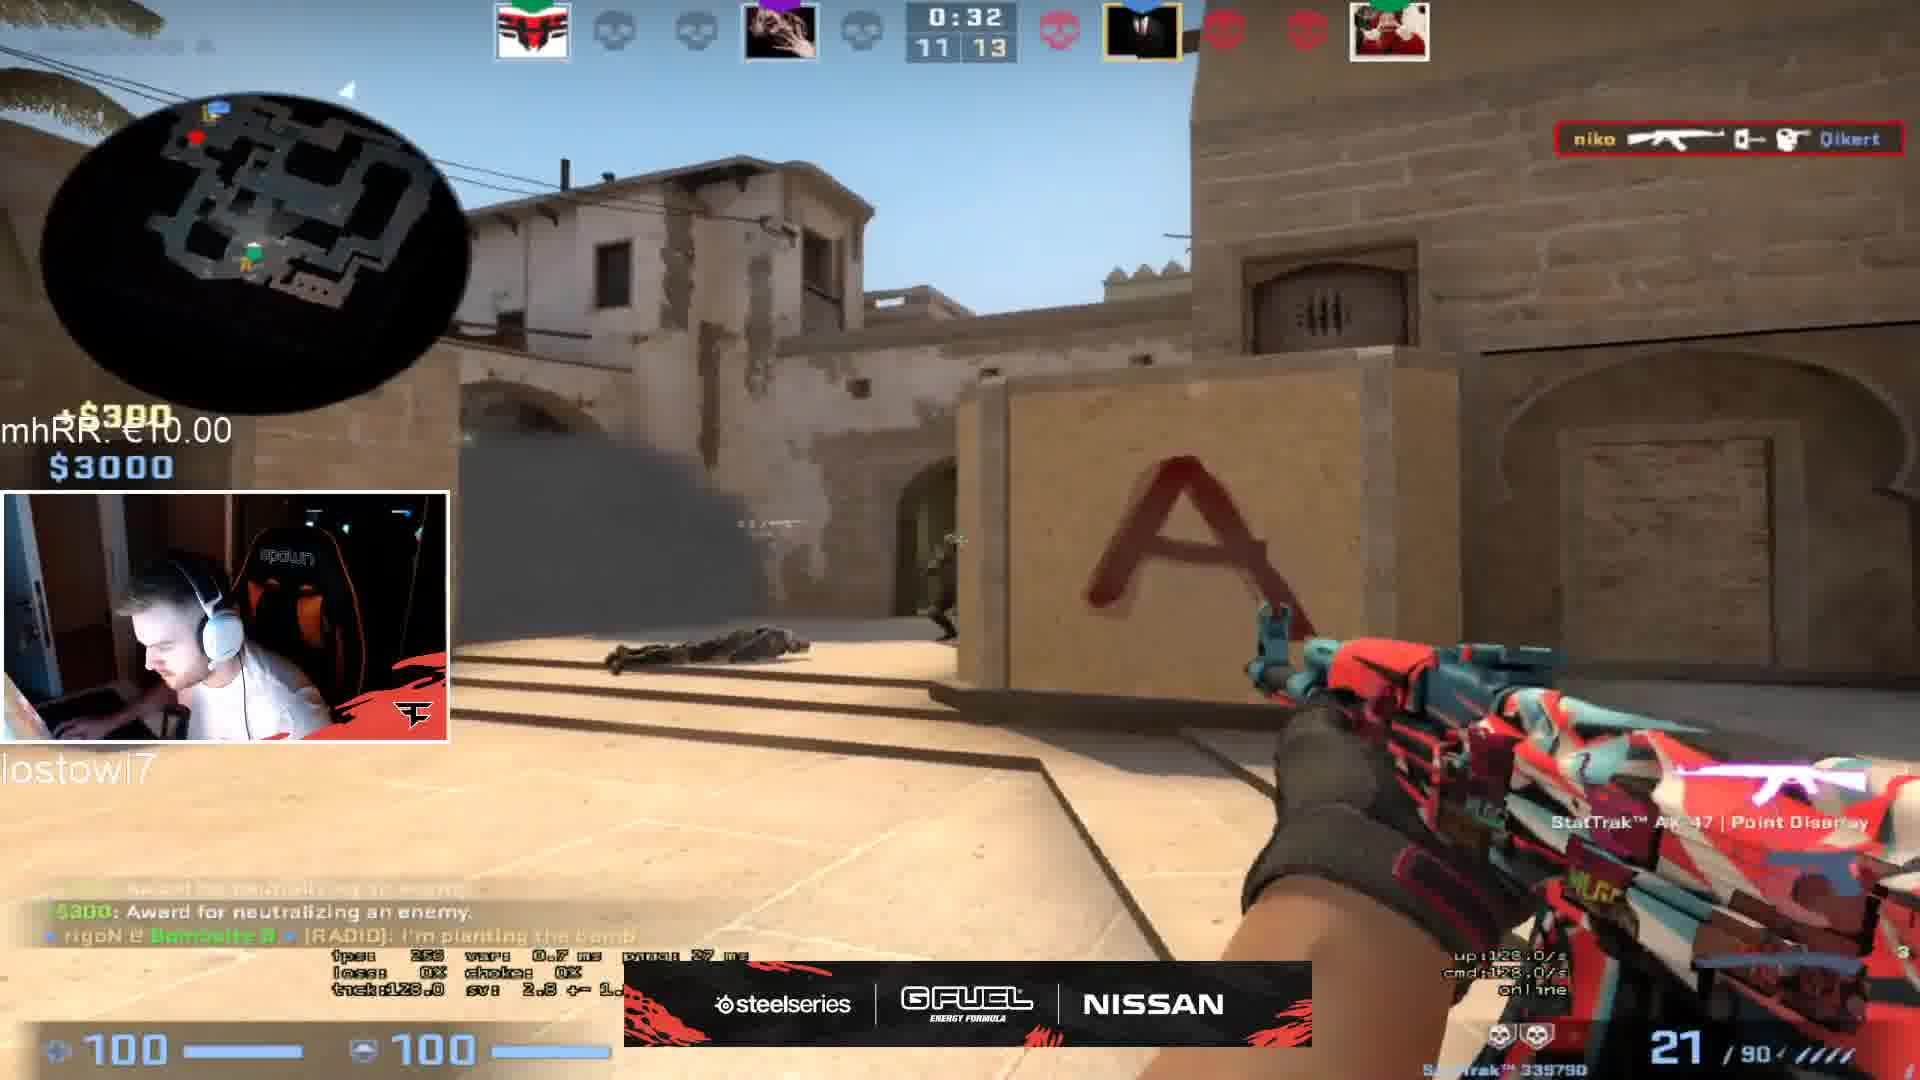enemy: (920, 531, 964, 650)
